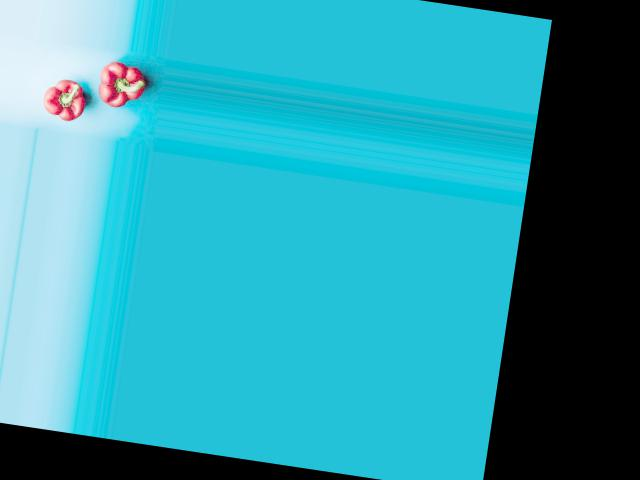bell_pepper: (86, 59, 153, 117)
